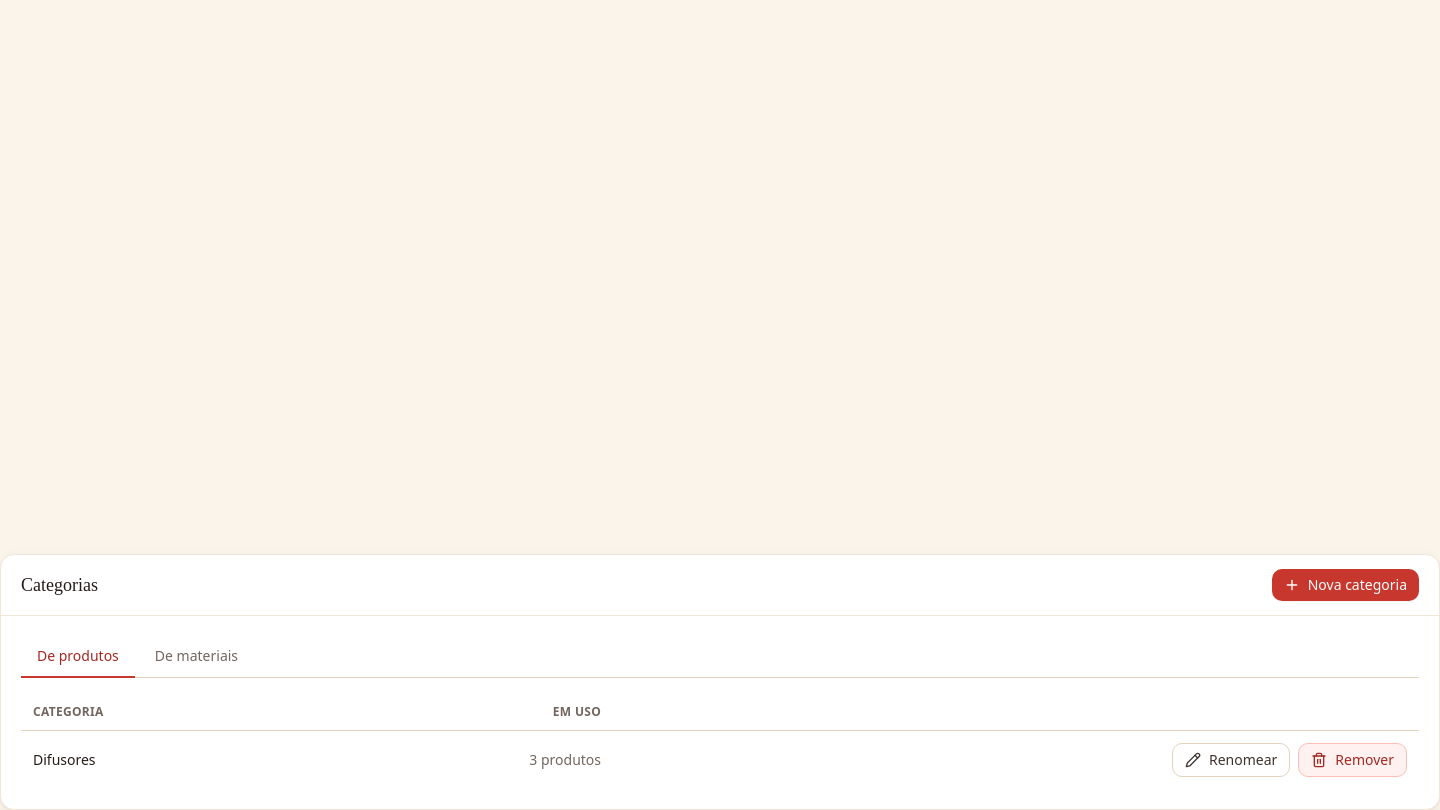
Test: Configurações → Categorias › avisa quando não há outra categoria para receber os itens
The image size is (1440, 810).
(page scrolled)
Click the button with aria-label "Remover Difusores".
click(1353, 760)  # box [1298,743,1407,777]
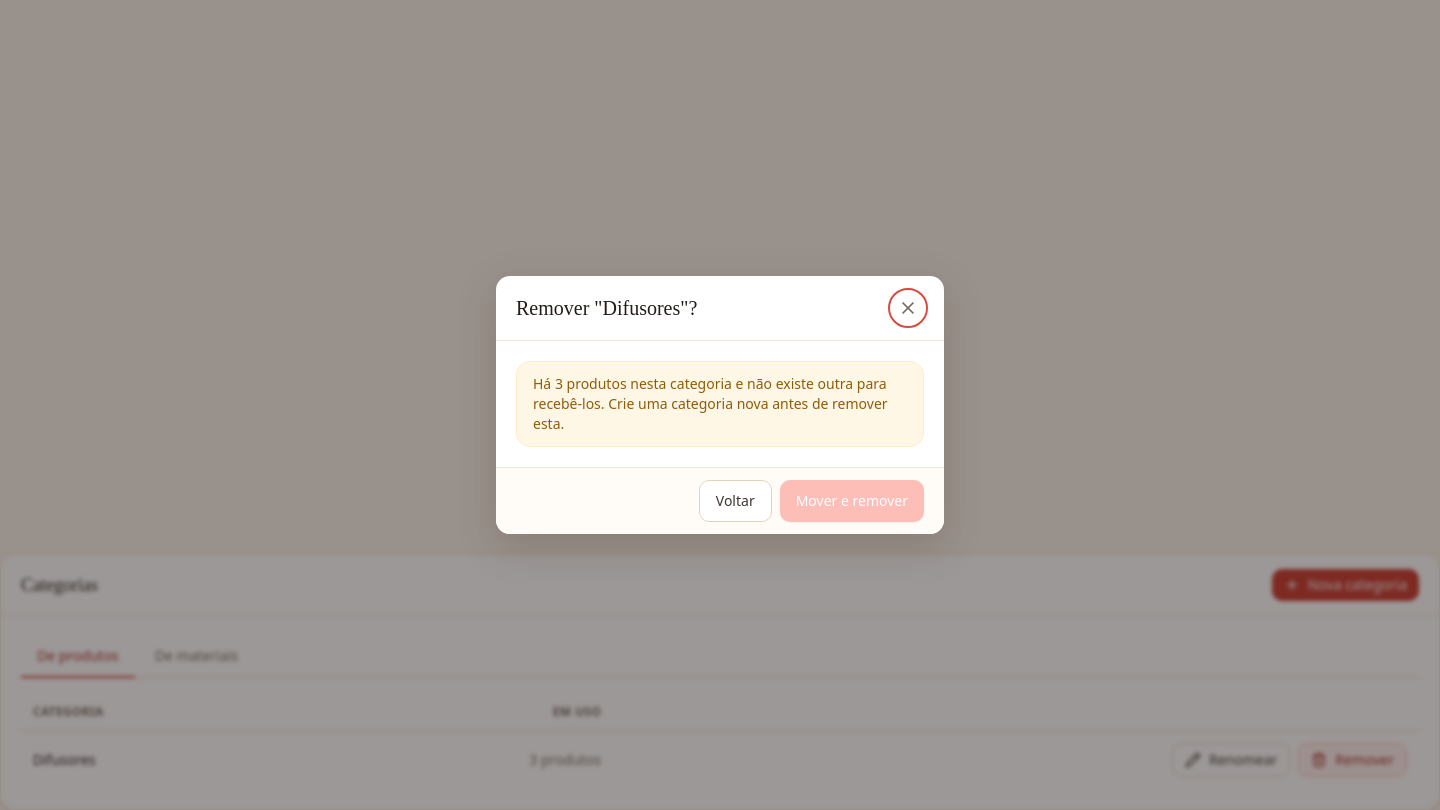
Now the text "Crie uma categoria nova antes" is shown, box [533,374,888,433]
Now the button "Mover e remover" is disabled, box [780,480,924,522]
